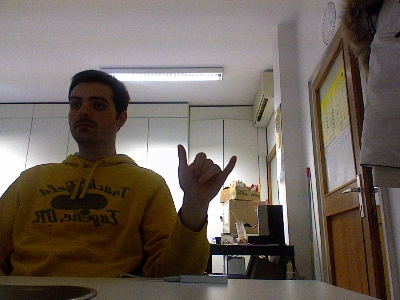六六六: (175, 141, 238, 202)
